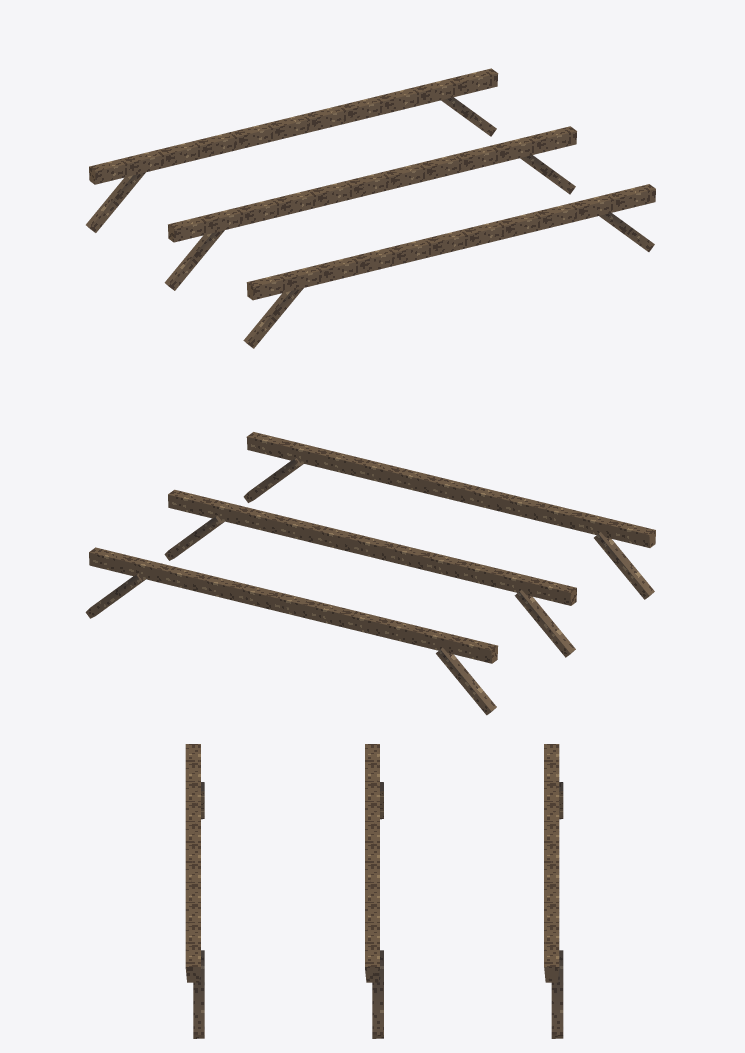
Rendered from cst.ceiling.glb.
3 views of the same model, one above another, from view 1: azimuth 30°, elevation 25°; view 2: azimuth 150°, elevation 25°; view 3: azimuth 270°, elevation 25° (orthographic). The views are drawn at different scales.
Visible parts, largest first — view 1: kit_ribs; view 2: kit_ribs; view 3: kit_ribs.
Part boxes in pixels (x1=…): kit_ribs: x1=86, y1=68, x2=655, y2=348; kit_ribs: x1=85, y1=432, x2=655, y2=715; kit_ribs: x1=185, y1=744, x2=563, y2=1038.
Size of the model in its own units: 11.16 by 1.71 by 15.
Materials: 2 (2 with a texture image).
